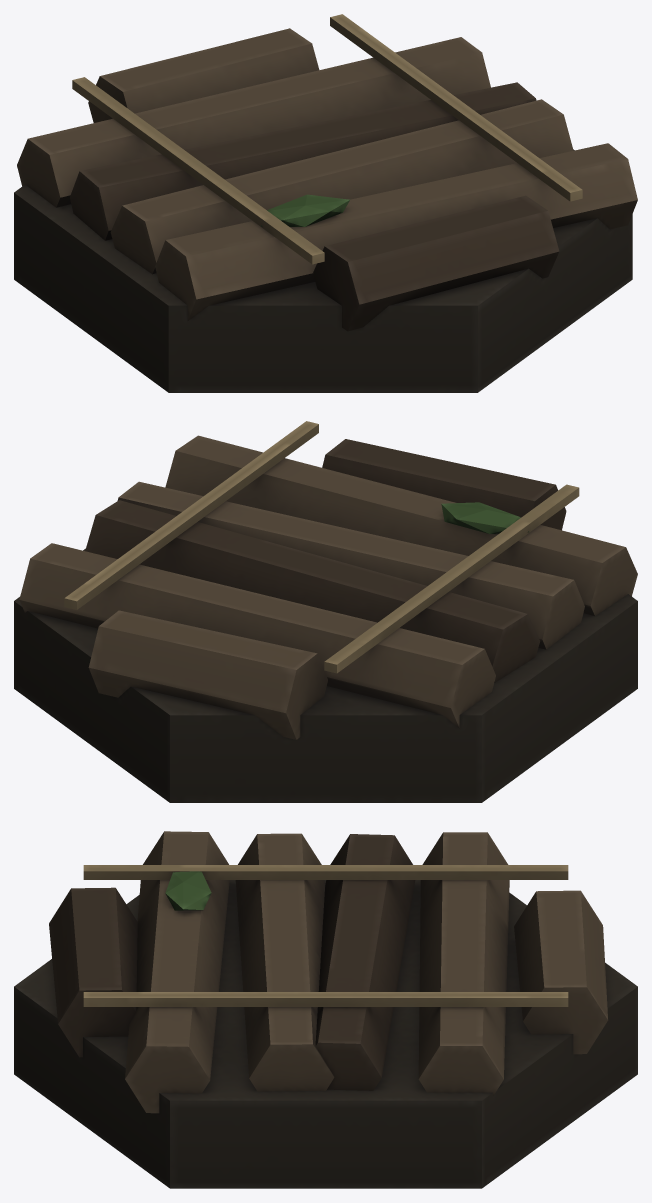
Rendered from tile_hex_planks_c.glb.
3 views of the same model, one above another, from view 1: azimuth 30°, elevation 25°; view 2: azimuth 150°, elevation 25°; view 3: azimuth 270°, elevation 25° (orthographic).
Visible parts, largest first — view 1: tile_hex_planks_c; view 2: tile_hex_planks_c; view 3: tile_hex_planks_c.
Boxes of the visible parts, x1,y1,x2,y2 form: tile_hex_planks_c: (14,14,637,392); tile_hex_planks_c: (14,421,637,802); tile_hex_planks_c: (14,831,637,1188).
Size of the model in its own units: 1.12 by 0.3386 by 1.29.
1 material, 1 textured.
